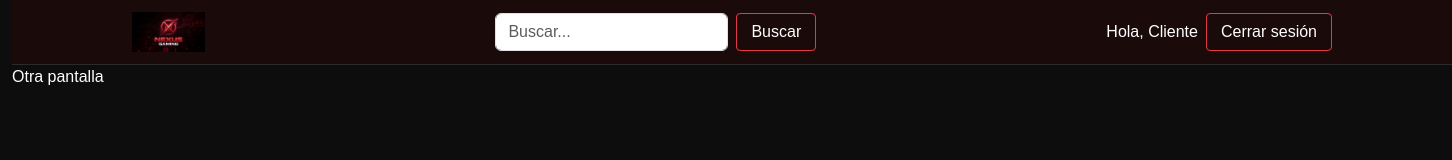
Test: Header (organismo) › Cerrar sesión elimina la sesion y vuelve a mostrar Iniciar Sesión
Click the button "Cerrar sesión": [1269, 32] box [1206,13,1332,51]
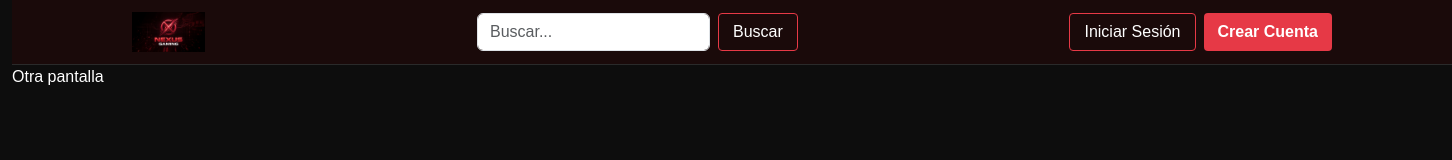
Expected: the button "Iniciar Sesión" is shown, [1070,13,1196,51]
